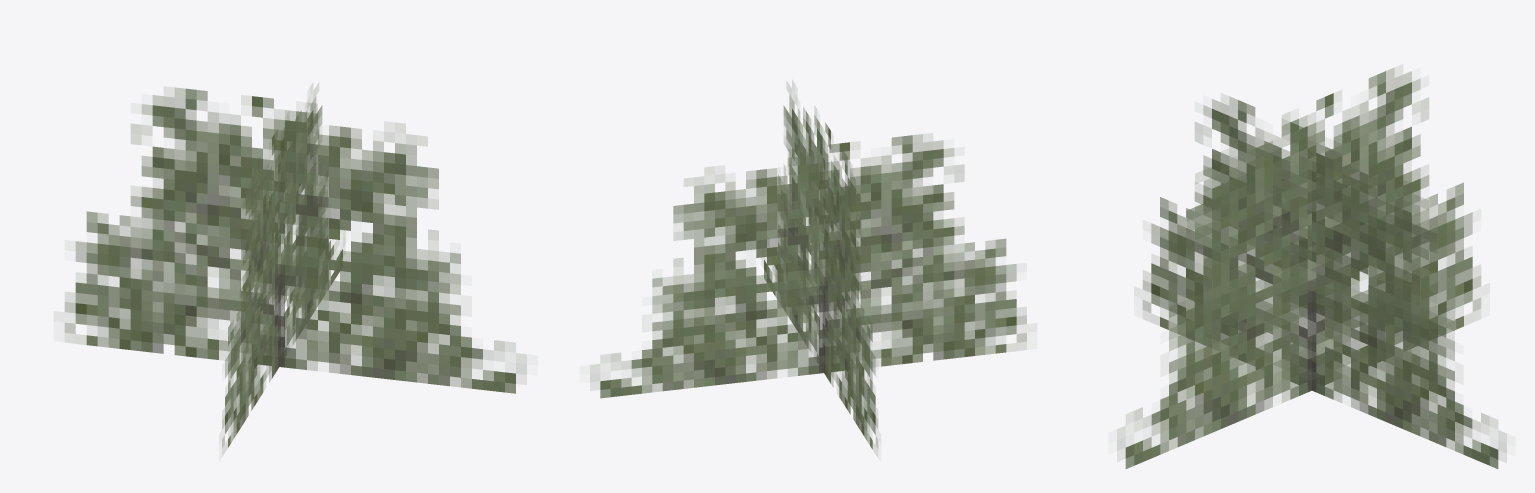
The model's file is tree-shrub.glb.
3 views of the same model, side by side, from view 1: azimuth 30°, elevation 25°; view 2: azimuth 150°, elevation 25°; view 3: azimuth 270°, elevation 25° (orthographic). The views are drawn at different scales.
Parts seen in each view (by area): view 1: tree-shrub; view 2: tree-shrub; view 3: tree-shrub.
Part boxes in pixels (left/top/right/bottom): tree-shrub: left=64, top=83, right=526, bottom=455; tree-shrub: left=590, top=80, right=1026, bottom=456; tree-shrub: left=1117, top=65, right=1506, bottom=468.
Size of the model in its own units: 0.9192 by 0.7 by 0.9192.
Materials: 1 (1 with a texture image).
